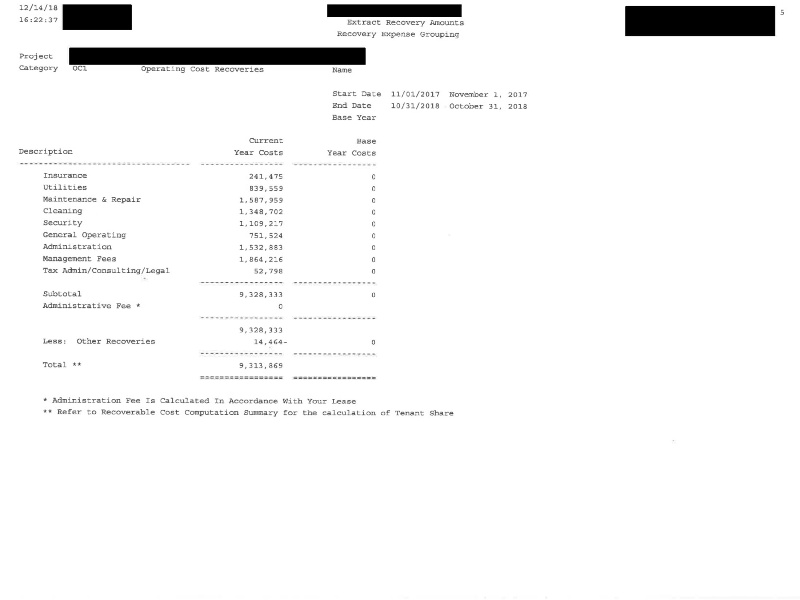table: (15, 133, 388, 387), (328, 85, 532, 113)
